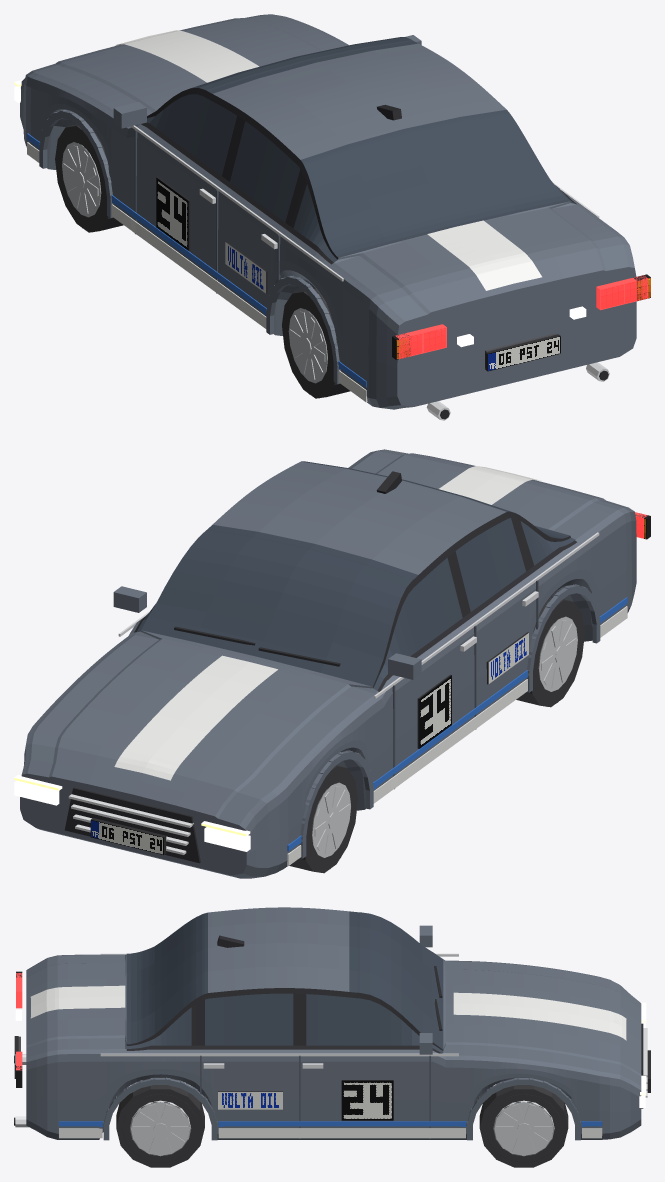
Rendered from passat.glb.
3 renders of one model, top to bottom at view 1: azimuth 30°, elevation 25°; view 2: azimuth 150°, elevation 25°; view 3: azimuth 270°, elevation 25°, orthographic. The views are drawn at different scales.
Parts seen in each view (by area): view 1: body.020, livery.019, wheel_RL.020, wheel_FL.020; view 2: body.020, livery.019, wheel_RL.020, wheel_FL.020; view 3: body.020, livery.019, wheel_RR.020, wheel_FR.020.
Part boxes in pixels (<box>): body.020: <box>14,14,650,420</box>; livery.019: <box>27,30,541,401</box>; wheel_RL.020: <box>282,288,350,398</box>; wheel_FL.020: <box>55,123,123,232</box>; body.020: <box>14,449,650,878</box>; livery.019: <box>114,466,627,865</box>; wheel_RL.020: <box>516,596,584,707</box>; wheel_FL.020: <box>289,765,357,873</box>; body.020: <box>14,907,650,1140</box>; livery.019: <box>30,985,626,1138</box>; wheel_RR.020: <box>116,1077,204,1167</box>; wheel_FR.020: <box>479,1085,568,1167</box>.
Size of the model in its own units: 2.13 by 1.54 by 4.89.
Materials: 18 (7 with a texture image).
